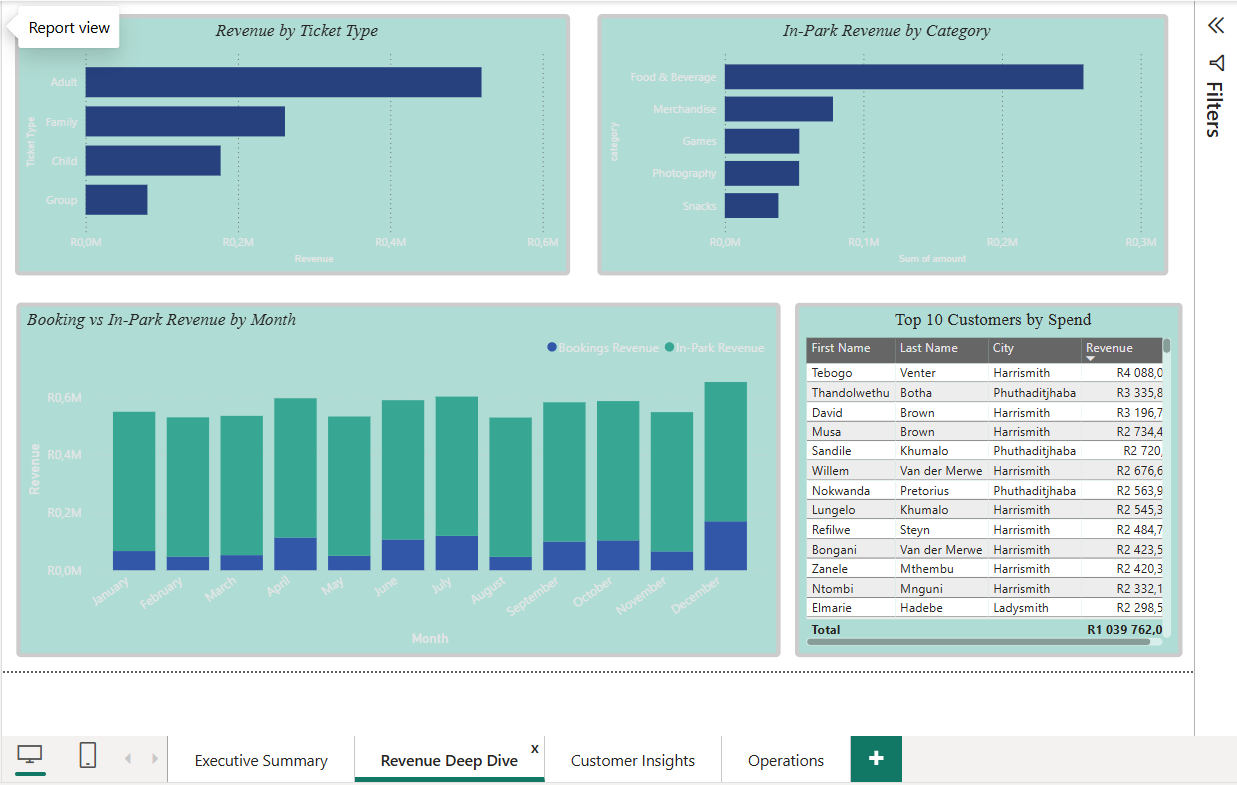

This screenshot's page, from the dashboard's own definition file:
{"tool":"powerbi","page":{"name":"Revenue Deep Dive","canvas":[1280,720],"ordinal":1},"visuals":[{"type":"clusteredBarChart","title":"Revenue by Ticket Type","fields":{"Category":["bookings.ticket_type"],"Y":["Sum(bookings.total_amount)"]},"box":[14,14,596.1,280.6],"z":0},{"type":"clusteredBarChart","title":"In-Park Revenue by Category","fields":{"Category":["in_park_purchases.category"],"Y":["Sum(in_park_purchases.amount)"]},"box":[639.4,14,612.9,280.6],"z":1000},{"type":"lineStackedColumnComboChart","title":"Booking vs In-Park Revenue by Month","fields":{"Category":["bookings.booking_date.Variation.Date Hierarchy.Year","bookings.booking_date.Variation.Date Hierarchy.Quarter","bookings.booking_date.Variation.Date Hierarchy.Month","bookings.booking_date.Variation.Date Hierarchy.Day"],"Y":["Sum(bookings.total_amount)","Sum(in_park_purchases.amount)"]},"box":[15.4,323.9,820.9,381.1],"z":2000},{"type":"tableEx","title":"Top 10 Customers by Spend","fields":{"Values":["customers.first_name","customers.last_name","customers.city","Sum(bookings.total_amount)"]},"box":[851.6,323.9,416,381.1],"z":3000}]}

Visuals, with their boxes on the page's 1280x720 design canvas (x1, y1, x2, y2). These are canvas units, not pixel positions in the 1237x785 screenshot, which may show the page scaled, cropped or inside an application window:
"Revenue by Ticket Type" clusteredBarChart: <bbox>14, 14, 610, 295</bbox>
"In-Park Revenue by Category" clusteredBarChart: <bbox>639, 14, 1252, 295</bbox>
"Booking vs In-Park Revenue by Month" lineStackedColumnComboChart: <bbox>15, 324, 836, 705</bbox>
"Top 10 Customers by Spend" tableEx: <bbox>852, 324, 1268, 705</bbox>
